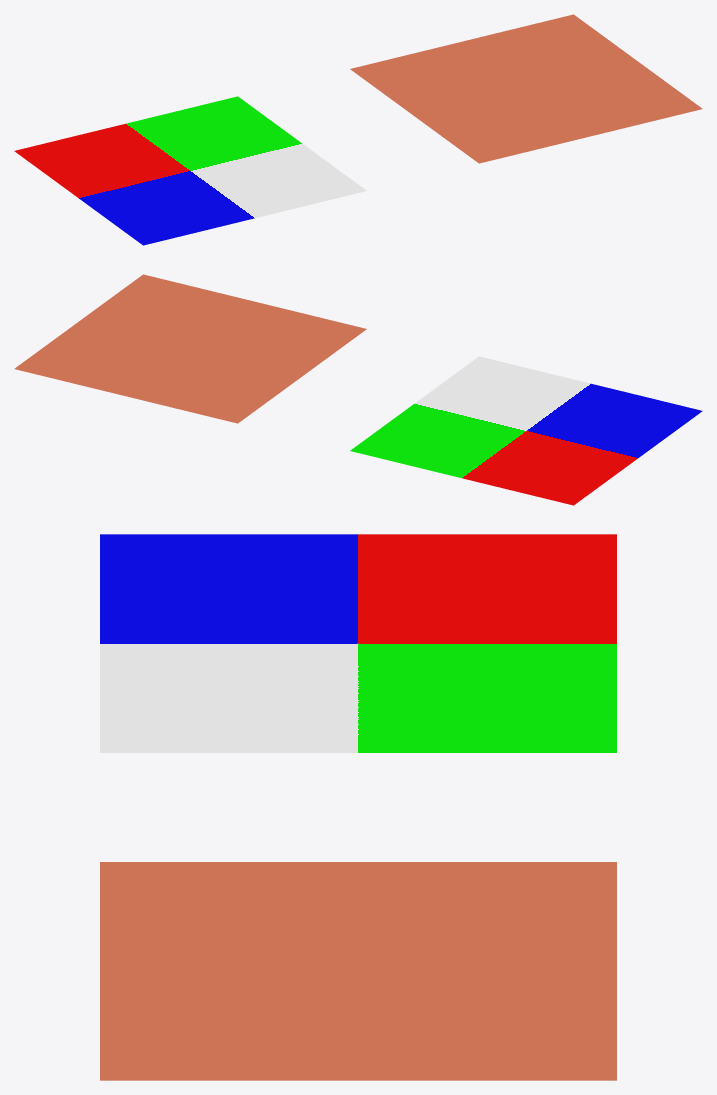
The model's file is static_quad.fbx.
The picture shows the model from 3 angles, top to bottom: view 1: azimuth 30°, elevation 25°; view 2: azimuth 150°, elevation 25°; view 3: azimuth 270°, elevation 25°; orthographic projection. The views are drawn at different scales.
Visible parts, largest first — view 1: Plain, Quad; view 2: Plain, Quad; view 3: Plain, Quad.
Boxes of the visible parts, x1=… form: Plain: x1=350, y1=14, x2=702, y2=163; Quad: x1=14, y1=96, x2=366, y2=245; Plain: x1=14, y1=274, x2=366, y2=423; Quad: x1=350, y1=356, x2=702, y2=505; Plain: x1=100, y1=862, x2=616, y2=1080; Quad: x1=100, y1=534, x2=616, y2=752.
Bounding box in the file's own units: 5 × 0 × 2.
Materials: 2 (1 with a texture image).
